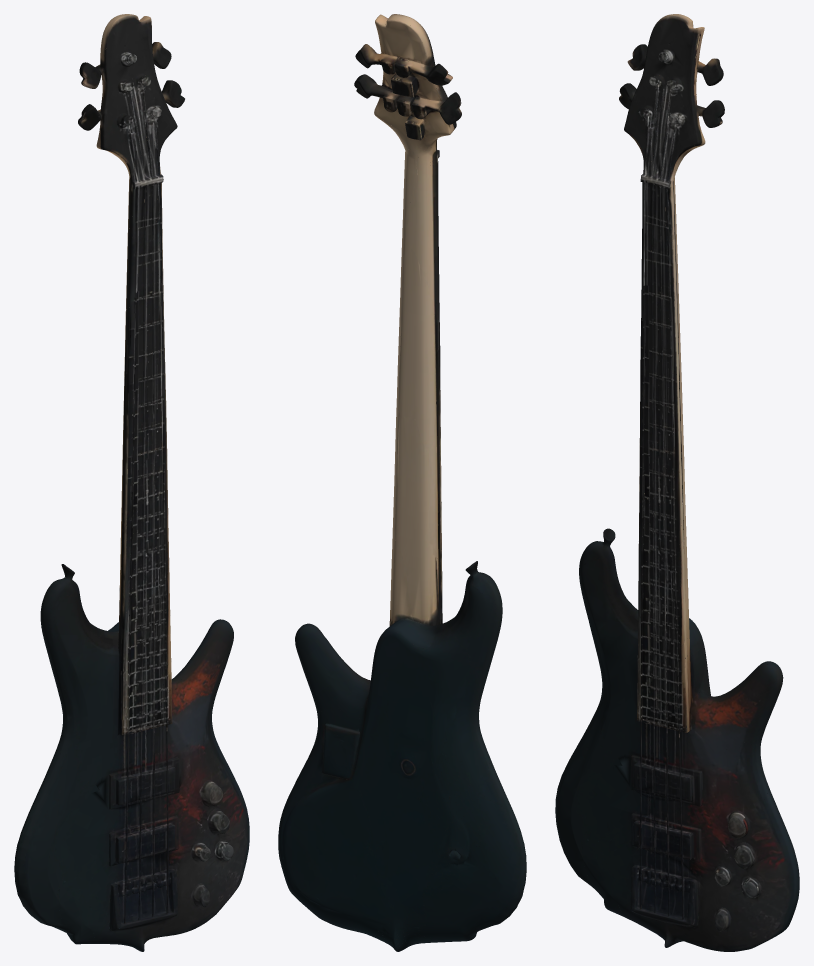
File: demo_bass.lod2.glb
The picture shows the model from 3 angles, left to right: view 1: azimuth 30°, elevation 25°; view 2: azimuth 150°, elevation 25°; view 3: azimuth 330°, elevation 25°; orthographic projection.
Visible parts, largest first — view 1: node_0; view 2: node_0; view 3: node_0.
Part boxes in pixels (x1=…): node_0: x1=14, y1=14, x2=249, y2=951; node_0: x1=278, y1=14, x2=526, y2=951; node_0: x1=555, y1=14, x2=799, y2=951.
Bounding box in the file's own units: 0.3222 × 1.2 × 0.0695.
Materials: 1 (1 with a texture image).
